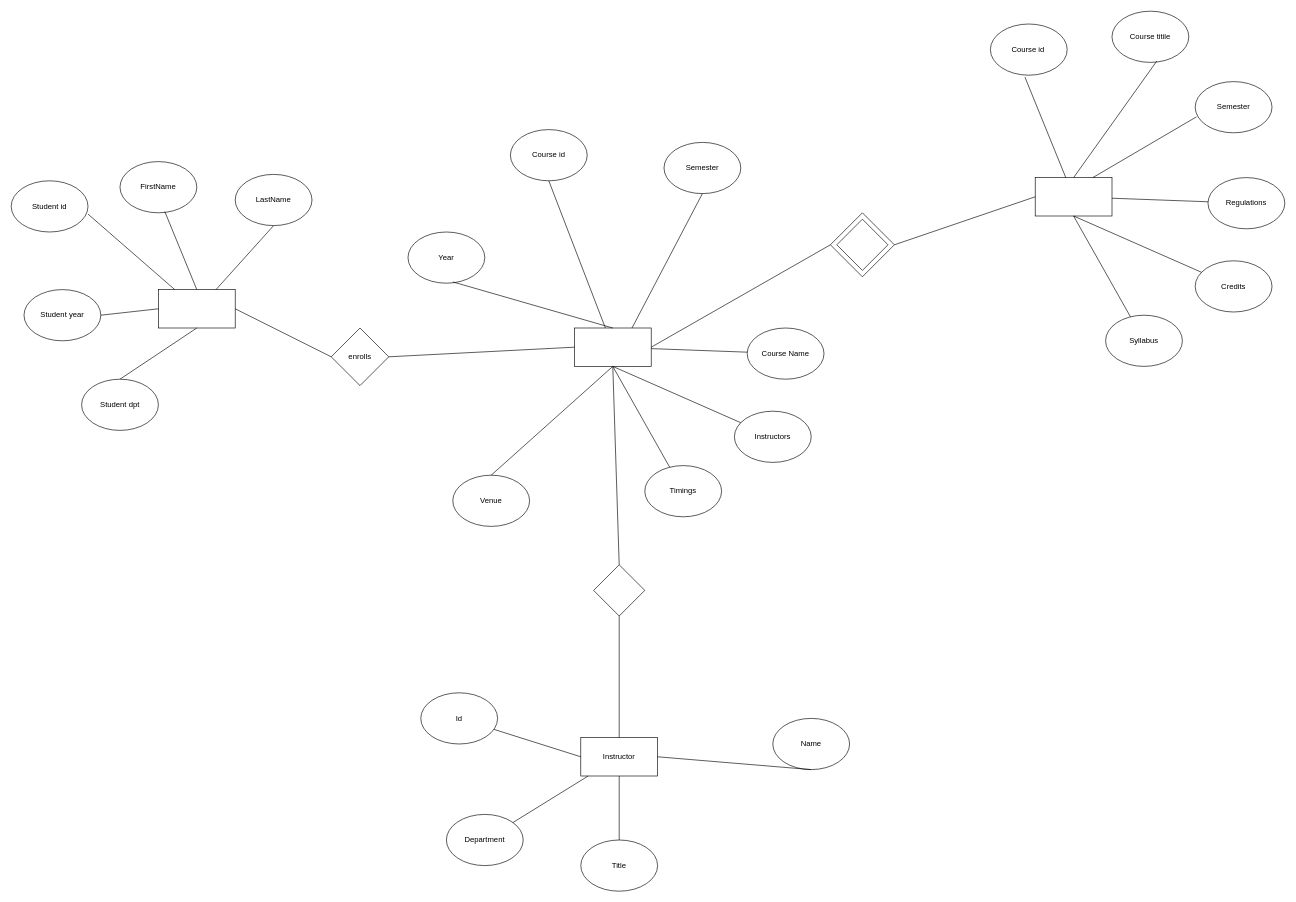
This 1296x902 diagram has some shape labels left out. The shapes that lost their labels are listed below. From the top down, each one's box as (x1, y1, x2, y2) in pixels, then its label:
(1035, 177, 1112, 216): Courses
(836, 219, 888, 270): is offered
(158, 289, 235, 328): Student
(574, 327, 651, 366): Courses offerings
(593, 564, 645, 616): Teaches
